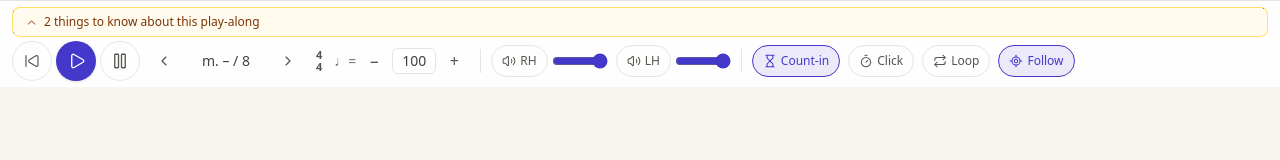
it: analysis warnings › explains each warning once expanded
Step 1. Click the button "2 things to know about this play-along" → (152, 22), box x1=25 y1=14 x2=1255 y2=30
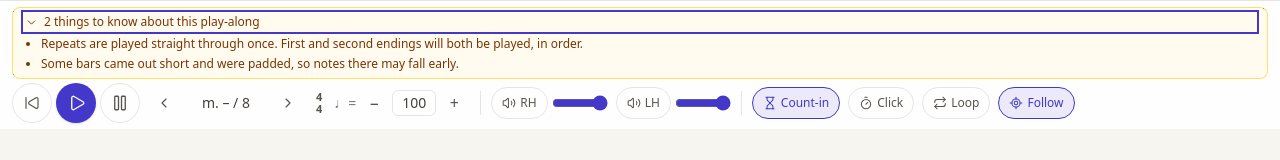
Expected: the list item "First and second endings" is shown, x1=41 y1=35 x2=583 y2=52
Expected: the list item "padded, so notes there may fall early" is shown, x1=41 y1=55 x2=459 y2=72
